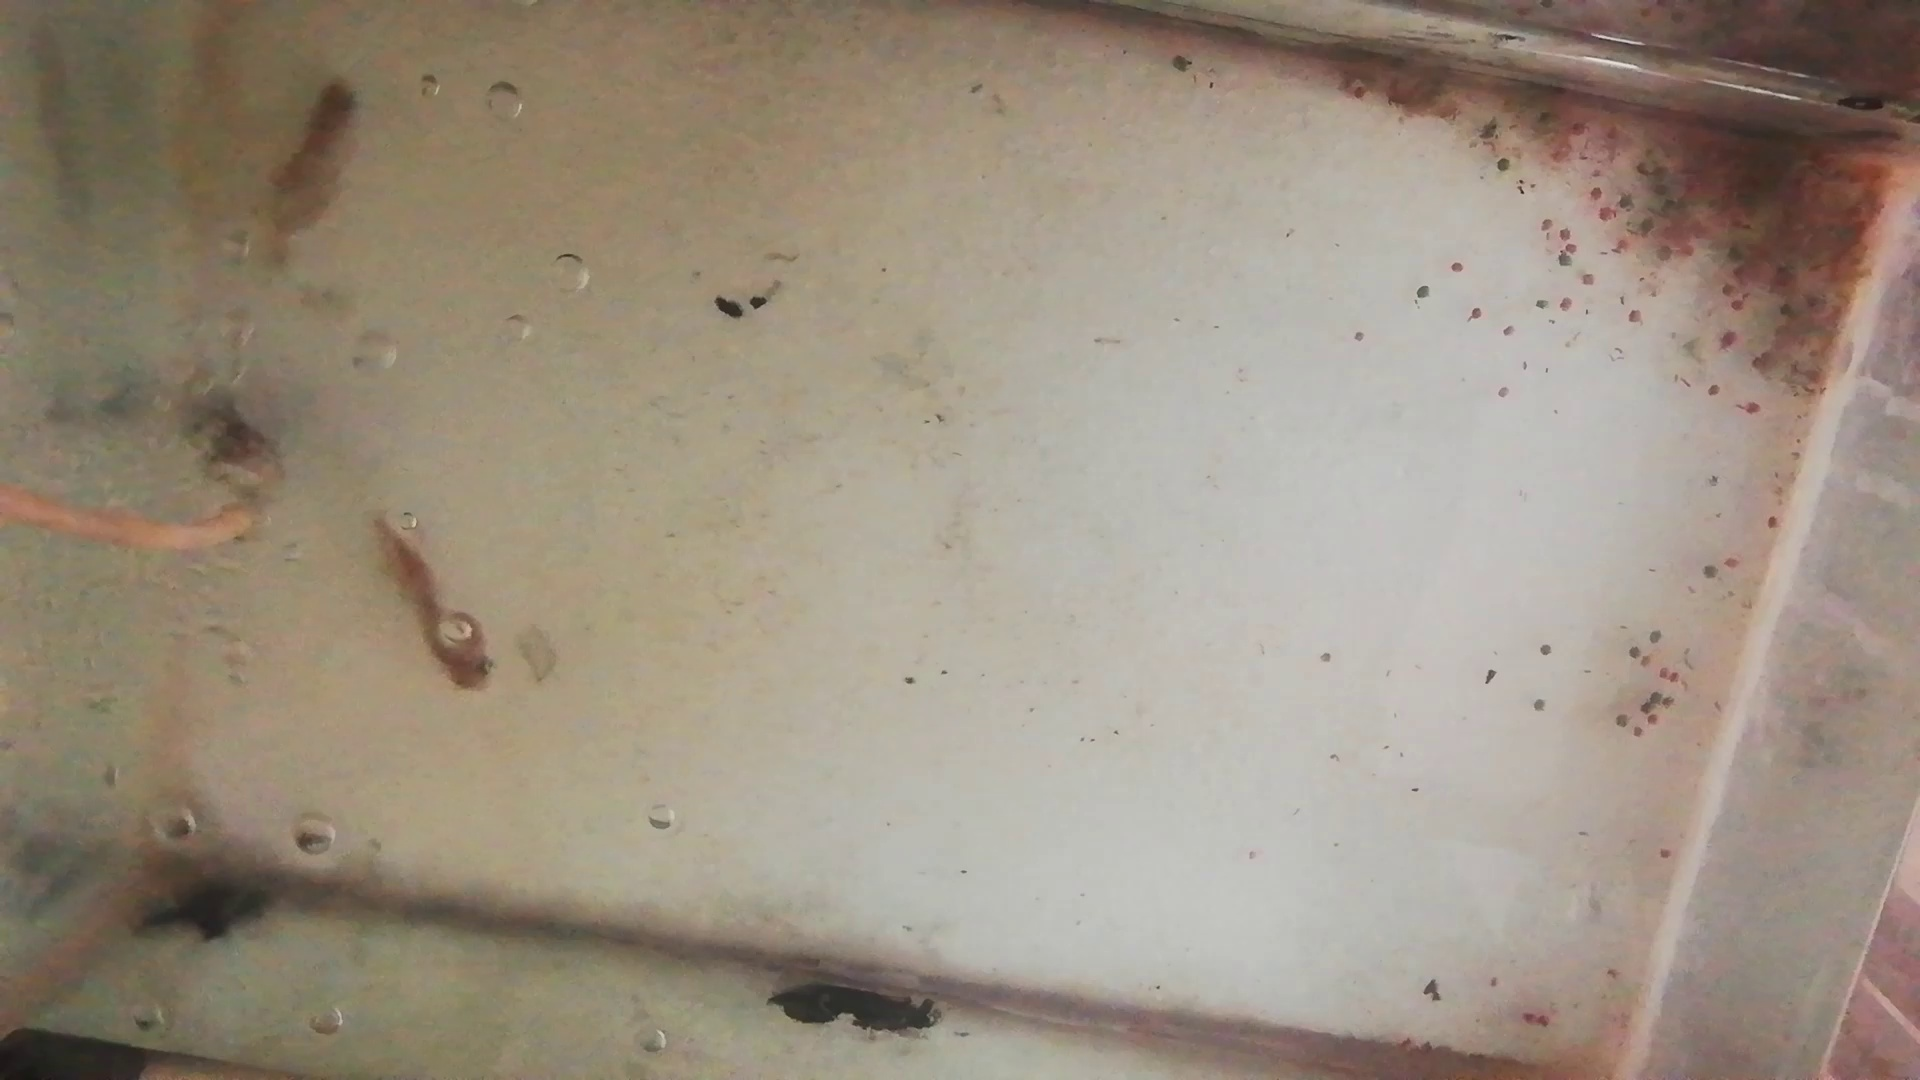fish: (367, 518, 496, 698), (260, 80, 363, 264)
